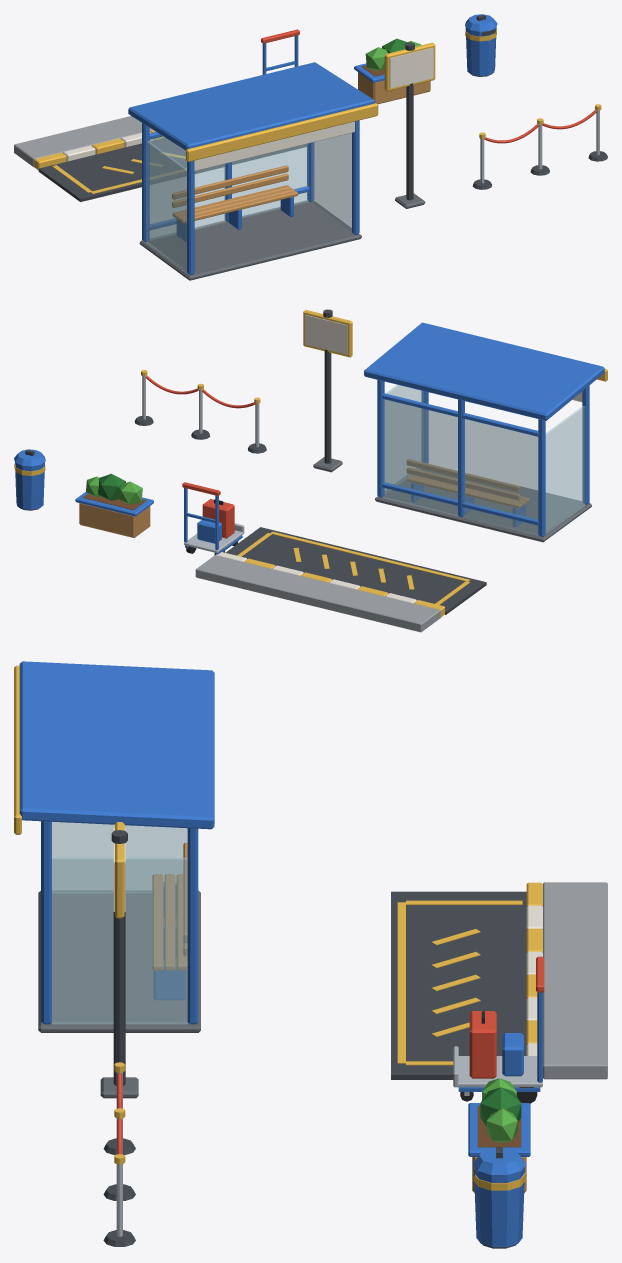
File: low-poly-taxi-stand.glb
3 renders of one model, top to bottom at view 1: azimuth 30°, elevation 25°; view 2: azimuth 150°, elevation 25°; view 3: azimuth 270°, elevation 25°, orthographic. The views are drawn at different scales.
Parts seen in each view (by area): view 1: Shelter_Roof, Shelter_Base, Kerb_Road, Shelter_GlassSide_L, Shelter_GlassBack_L, Shelter_GlassSide_R, Shelter_GlassBack_R, Shelter_Fascia, Kerb_Pavement, Shelter_SignPanel, Sign_Face_Front, Bin_Body (+14 smaller); view 2: Shelter_Roof, Kerb_Road, Shelter_GlassBack_R, Shelter_GlassBack_L, Kerb_Pavement, Shelter_Base, Shelter_GlassSide_L, Shelter_GlassSide_R, Planter_Box, Sign_Face_Back, Bin_Body, Shelter_Rail1 (+18 smaller); view 3: Shelter_Roof, Shelter_GlassSide_R, Kerb_Road, Shelter_Base, Kerb_Pavement, Shelter_GlassSide_L, Bin_Body, Shelter_Post3, Shelter_Post1, Sign_Post, Suitcase_Big, Bay_Line_Front (+11 smaller).
Part boxes in pixels (bbox=[...]): Shelter_Roof: bbox=[128, 62, 374, 150]; Shelter_Base: bbox=[139, 200, 361, 280]; Kerb_Road: bbox=[38, 138, 306, 201]; Shelter_GlassSide_L: bbox=[146, 141, 186, 271]; Shelter_GlassBack_L: bbox=[149, 136, 225, 240]; Shelter_GlassSide_R: bbox=[311, 133, 351, 231]; Shelter_GlassBack_R: bbox=[232, 144, 308, 217]; Shelter_Fascia: bbox=[186, 103, 378, 161]; Kerb_Pavement: bbox=[14, 116, 152, 167]; Shelter_SignPanel: bbox=[194, 121, 354, 171]; Sign_Face_Front: bbox=[389, 48, 433, 88]; Bin_Body: bbox=[465, 27, 496, 76]; Shelter_Roof: bbox=[364, 322, 604, 420]; Kerb_Road: bbox=[225, 527, 486, 614]; Shelter_GlassBack_R: bbox=[383, 399, 457, 515]; Shelter_GlassBack_L: bbox=[463, 419, 538, 535]; Kerb_Pavement: bbox=[195, 555, 440, 632]; Shelter_Base: bbox=[375, 468, 591, 542]; Shelter_GlassSide_L: bbox=[545, 406, 585, 533]; Shelter_GlassSide_R: bbox=[385, 384, 424, 493]; Planter_Box: bbox=[79, 503, 150, 537]; Sign_Face_Back: bbox=[305, 315, 347, 354]; Bin_Body: bbox=[15, 462, 44, 509]; Shelter_Rail1: bbox=[382, 393, 538, 436]; Shelter_Roof: bbox=[19, 661, 214, 829]; Shelter_GlassSide_R: bbox=[52, 857, 187, 1024]; Kerb_Road: bbox=[391, 891, 526, 1079]; Shelter_Base: bbox=[38, 890, 200, 1032]; Kerb_Pavement: bbox=[543, 882, 607, 1079]; Shelter_GlassSide_L: bbox=[52, 821, 187, 893]; Bin_Body: bbox=[474, 1166, 525, 1247]; Shelter_Post3: bbox=[187, 828, 198, 1024]; Shelter_Post1: bbox=[41, 821, 51, 1024]; Sign_Post: bbox=[113, 912, 125, 1085]; Suitcase_Big: bbox=[469, 1011, 496, 1078]; Bay_Line_Front: bbox=[397, 902, 405, 1063].
Bounding box in the file's own units: 31.55 × 10.5 × 21.9.
